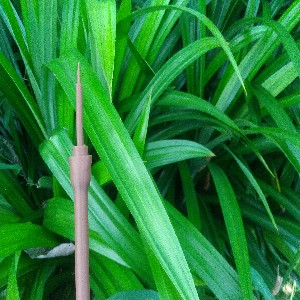solder: (67, 61, 94, 300)
